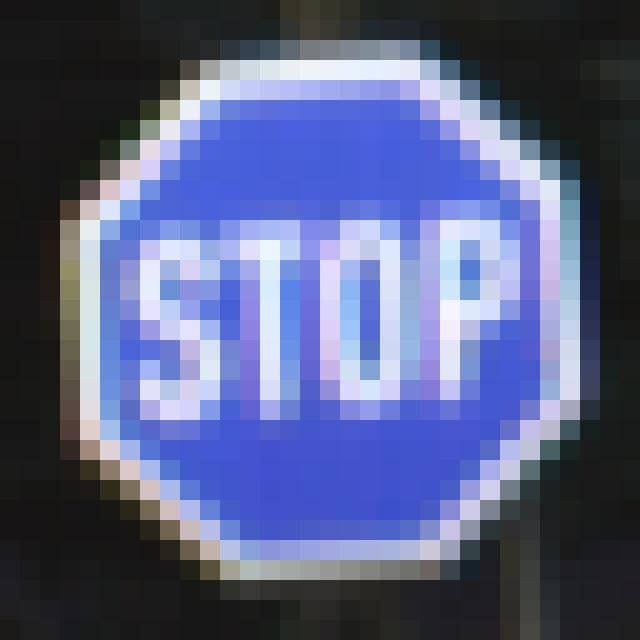STOP: (78, 70, 574, 578)
